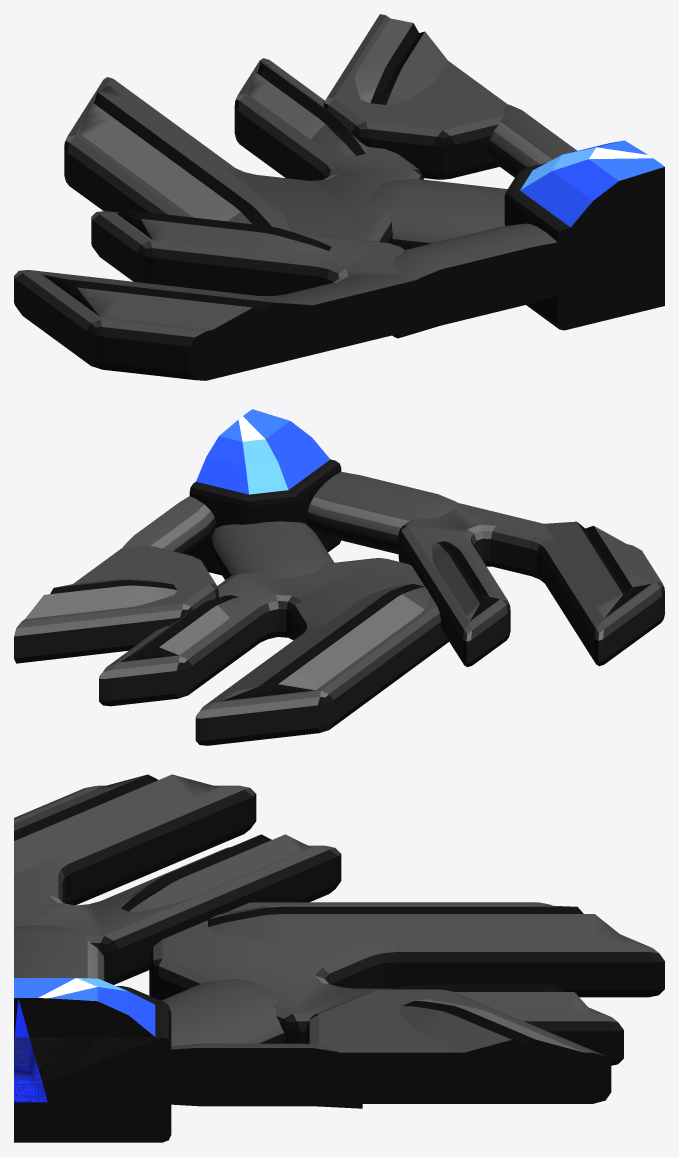
File: dark_saw_165.glb
The picture shows the model from 3 angles, top to bottom: view 1: azimuth 30°, elevation 25°; view 2: azimuth 150°, elevation 25°; view 3: azimuth 270°, elevation 25°; orthographic projection. The views are drawn at different scales.
Parts seen in each view (by area): view 1: dark_saw_165_arm3_plate, dark_saw_165_under3_plate, dark_saw_165_arm0_plate, dark_saw_165_arm3_rod, dark_saw_165_gem, dark_saw_165_under3_ridge0, dark_saw_165_gem_bezel, dark_saw_165_arm3_ridge0, dark_saw_165_under3_rod, dark_saw_165_arm0_ridge0, dark_saw_165_arm3_ridge1, dark_saw_165_under3_ridge1 (+1 smaller); view 2: dark_saw_165_under3_plate, dark_saw_165_arm3_plate, dark_saw_165_arm0_plate, dark_saw_165_under3_ridge0, dark_saw_165_gem, dark_saw_165_arm3_rod, dark_saw_165_under3_rod, dark_saw_165_arm3_ridge0, dark_saw_165_gem_bezel, dark_saw_165_arm0_ridge0, dark_saw_165_arm0_rod, dark_saw_165_under3_ridge1 (+1 smaller); view 3: dark_saw_165_under3_plate, dark_saw_165_arm3_plate, dark_saw_165_arm0_plate, dark_saw_165_gem_bezel, dark_saw_165_gem, dark_saw_165_under3_ridge0, dark_saw_165_arm0_rod, dark_saw_165_arm3_ridge0, dark_saw_165_under3_rod, dark_saw_165_arm0_ridge0, dark_saw_165_arm3_ridge1, dark_saw_165_arm3_rod (+1 smaller).
Boxes of the visible parts, x1=… form: dark_saw_165_arm3_plate: x1=14, y1=211, x2=444, y2=380; dark_saw_165_under3_plate: x1=64, y1=58, x2=423, y2=243; dark_saw_165_arm0_plate: x1=323, y1=14, x2=507, y2=179; dark_saw_165_arm3_rod: x1=392, y1=223, x2=596, y2=338; dark_saw_165_gem: x1=520, y1=140, x2=664, y2=268; dark_saw_165_under3_ridge0: x1=79, y1=85, x2=289, y2=230; dark_saw_165_gem_bezel: x1=504, y1=163, x2=664, y2=330; dark_saw_165_arm3_ridge0: x1=43, y1=274, x2=322, y2=340; dark_saw_165_under3_rod: x1=370, y1=178, x2=507, y2=249; dark_saw_165_arm0_ridge0: x1=355, y1=18, x2=447, y2=104; dark_saw_165_arm3_ridge1: x1=116, y1=210, x2=331, y2=253; dark_saw_165_under3_ridge1: x1=248, y1=62, x2=368, y2=155; dark_saw_165_under3_plate: x1=99, y1=558, x2=448, y2=745; dark_saw_165_arm3_plate: x1=398, y1=503, x2=664, y2=667; dark_saw_165_arm0_plate: x1=14, y1=544, x2=218, y2=663; dark_saw_165_under3_ridge0: x1=222, y1=583, x2=430, y2=700; dark_saw_165_gem: x1=196, y1=409, x2=330, y2=494; dark_saw_165_arm3_rod: x1=307, y1=472, x2=457, y2=554; dark_saw_165_under3_rod: x1=209, y1=521, x2=334, y2=579; dark_saw_165_arm3_ridge0: x1=544, y1=521, x2=651, y2=618; dark_saw_165_gem_bezel: x1=189, y1=459, x2=341, y2=575; dark_saw_165_arm0_ridge0: x1=25, y1=579, x2=176, y2=618; dark_saw_165_arm0_rod: x1=123, y1=496, x2=216, y2=555; dark_saw_165_under3_ridge1: x1=120, y1=595, x2=241, y2=661; dark_saw_165_under3_plate: x1=149, y1=902, x2=664, y2=1065; dark_saw_165_arm3_plate: x1=14, y1=785, x2=341, y2=984; dark_saw_165_arm0_plate: x1=306, y1=989, x2=611, y2=1103; dark_saw_165_gem_bezel: x1=14, y1=986, x2=171, y2=1142; dark_saw_165_gem: x1=14, y1=978, x2=158, y2=1104; dark_saw_165_under3_ridge0: x1=208, y1=905, x2=628, y2=941; dark_saw_165_arm0_rod: x1=124, y1=1043, x2=362, y2=1108; dark_saw_165_arm3_ridge0: x1=14, y1=774, x2=219, y2=873; dark_saw_165_under3_rod: x1=161, y1=979, x2=286, y2=1046; dark_saw_165_arm0_ridge0: x1=398, y1=999, x2=595, y2=1061; dark_saw_165_arm3_ridge1: x1=119, y1=834, x2=310, y2=912; dark_saw_165_arm3_rod: x1=14, y1=925, x2=105, y2=981.
Size of the model in its own units: 22.7 by 5.63 by 22.97.
